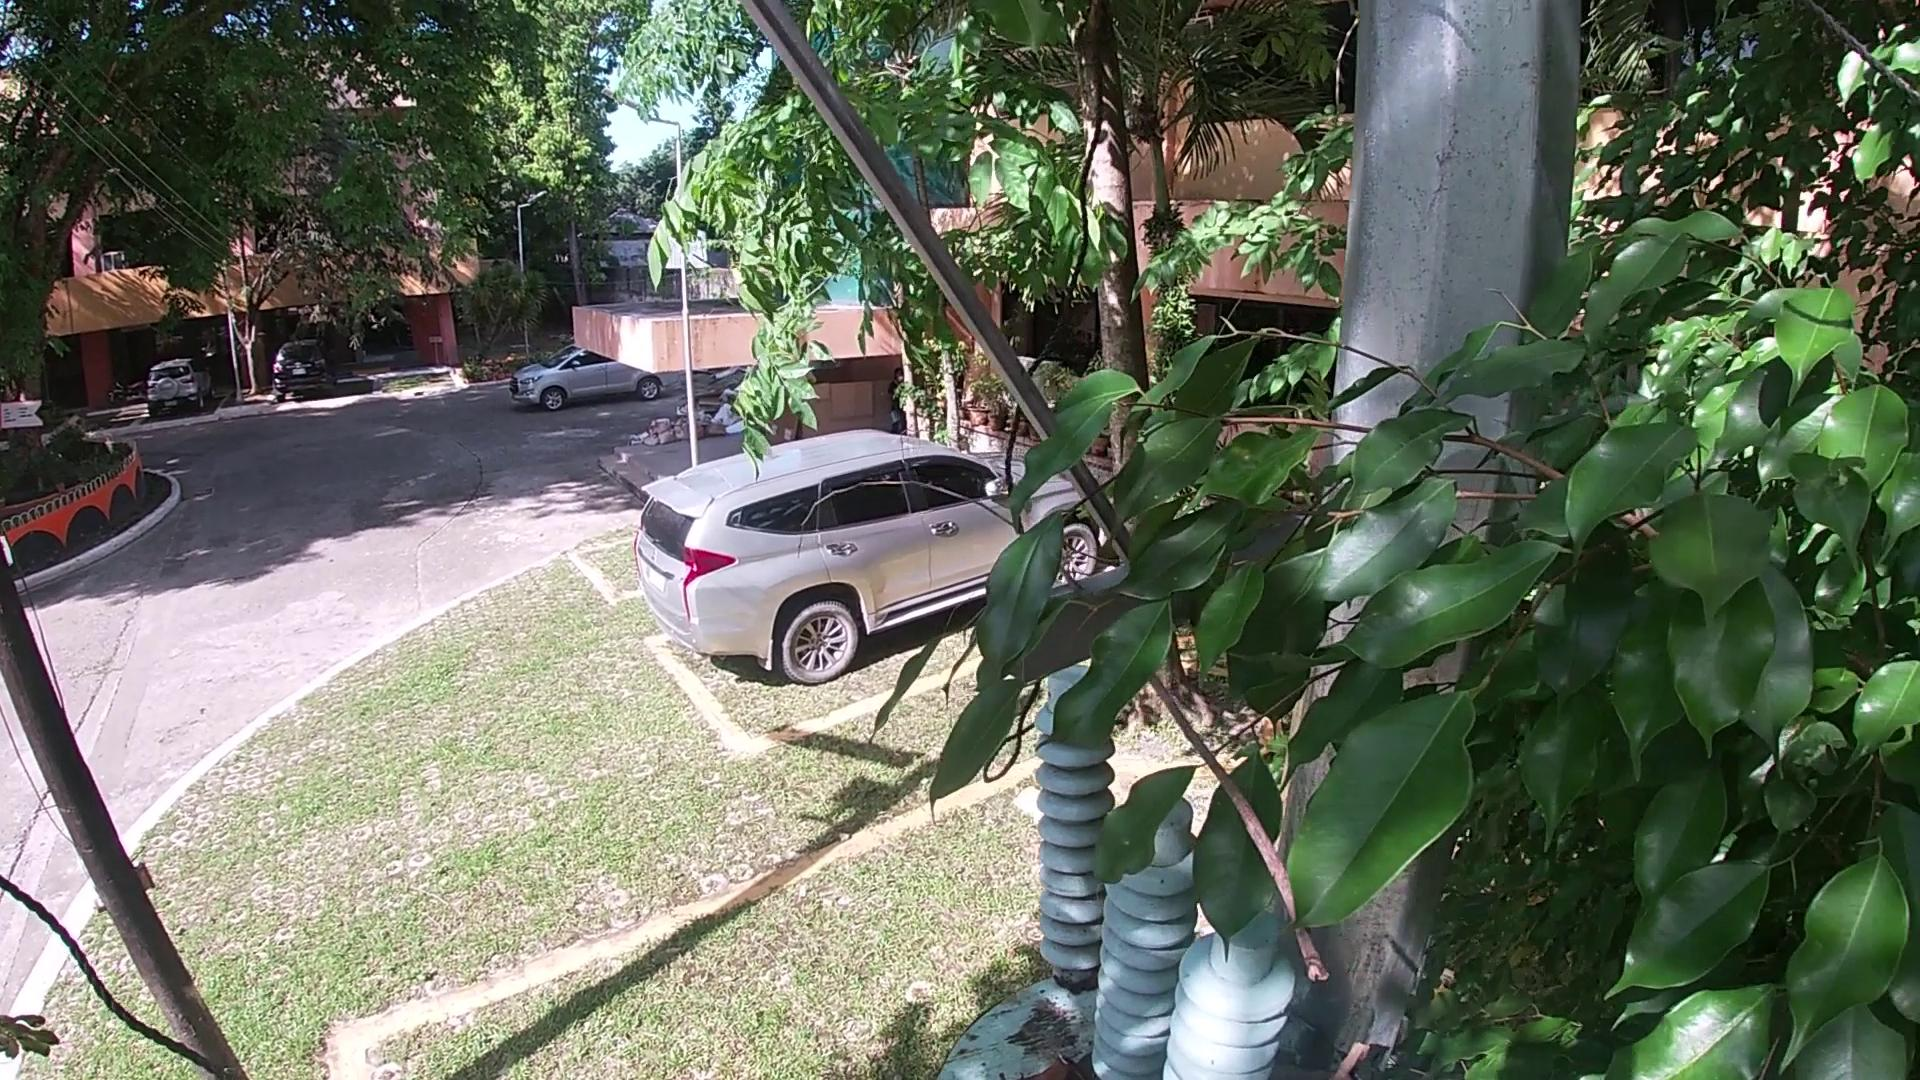mahogany fruit: (1002, 1036, 1083, 1080)
tree branch: (789, 332, 1349, 990), (1331, 1033, 1379, 1080), (1265, 1056, 1323, 1080)
